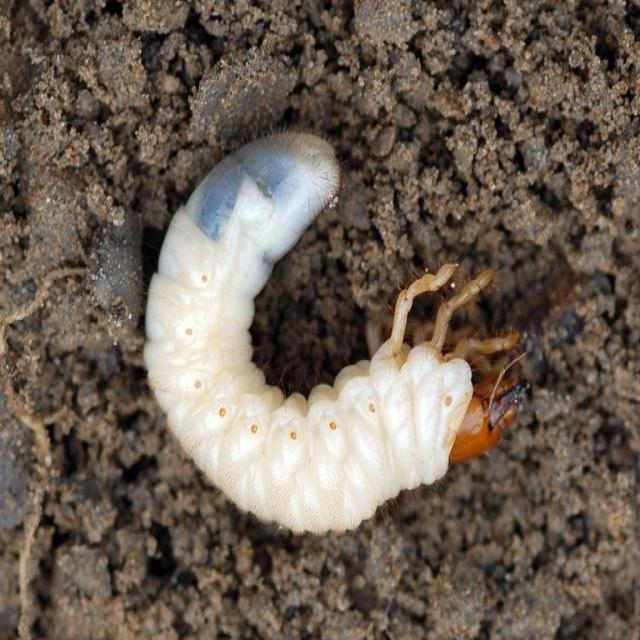grub: (133, 132, 512, 543)
